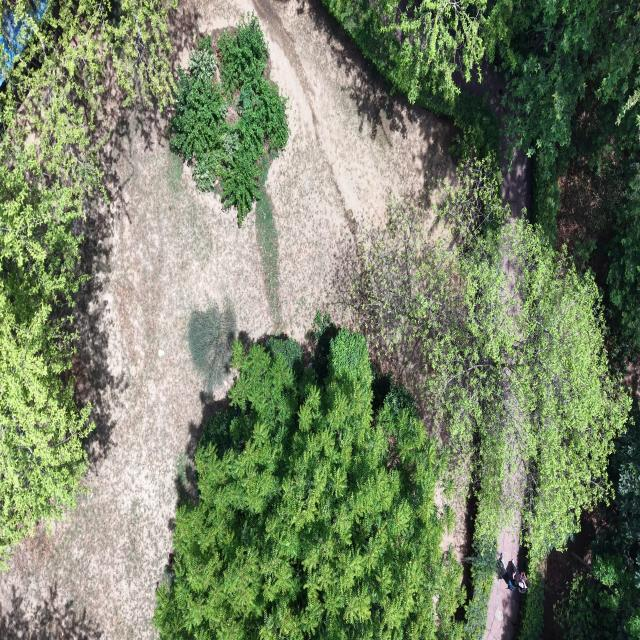DRY_AREA: (0, 0, 453, 639), (194, 0, 453, 336), (456, 63, 530, 223), (456, 62, 530, 218), (459, 63, 530, 221), (540, 512, 601, 639), (481, 67, 530, 223), (0, 587, 103, 639), (497, 430, 525, 571), (497, 432, 525, 571), (497, 434, 525, 572), (435, 469, 472, 567), (497, 461, 525, 571), (497, 466, 524, 571), (484, 578, 522, 639), (625, 356, 639, 408)
PATHWAYS: (458, 63, 530, 218)
VEGETATION_TREE: (155, 0, 639, 639), (326, 0, 639, 630), (325, 0, 639, 563), (352, 161, 630, 624), (325, 0, 639, 359), (355, 162, 630, 553), (0, 0, 172, 566), (155, 325, 462, 639), (351, 163, 513, 638), (501, 0, 639, 366), (498, 0, 639, 358), (514, 228, 631, 637), (352, 159, 513, 450), (508, 227, 631, 559), (324, 0, 509, 170), (0, 287, 92, 567), (171, 15, 288, 225), (498, 0, 639, 171), (325, 0, 503, 110), (549, 152, 639, 366), (555, 412, 639, 639), (583, 156, 639, 358), (554, 543, 639, 639), (612, 411, 639, 588), (256, 152, 282, 326), (188, 301, 236, 393)
